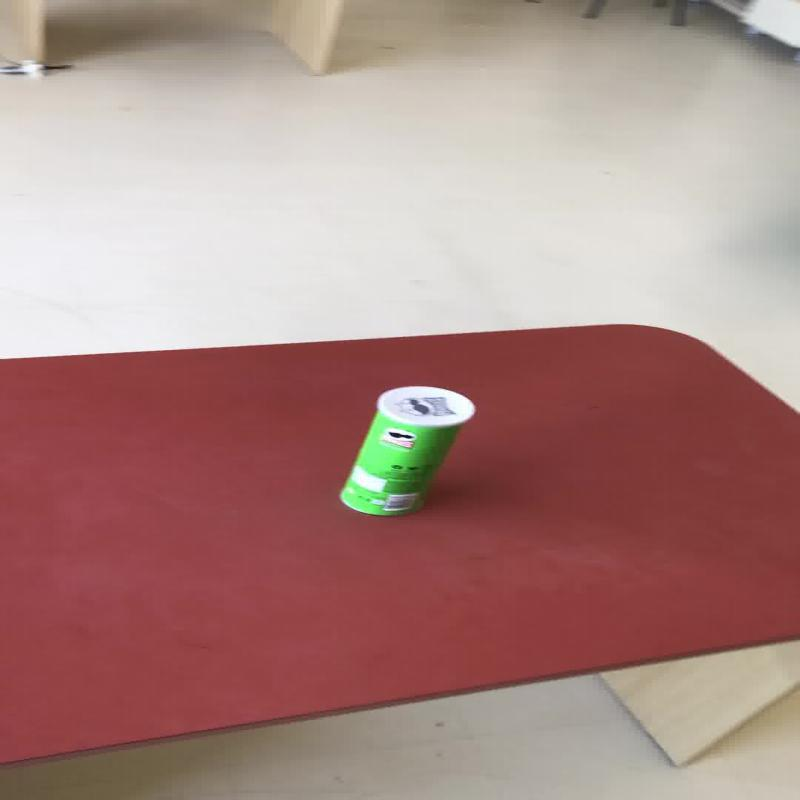pringles: (337, 384, 475, 517)
